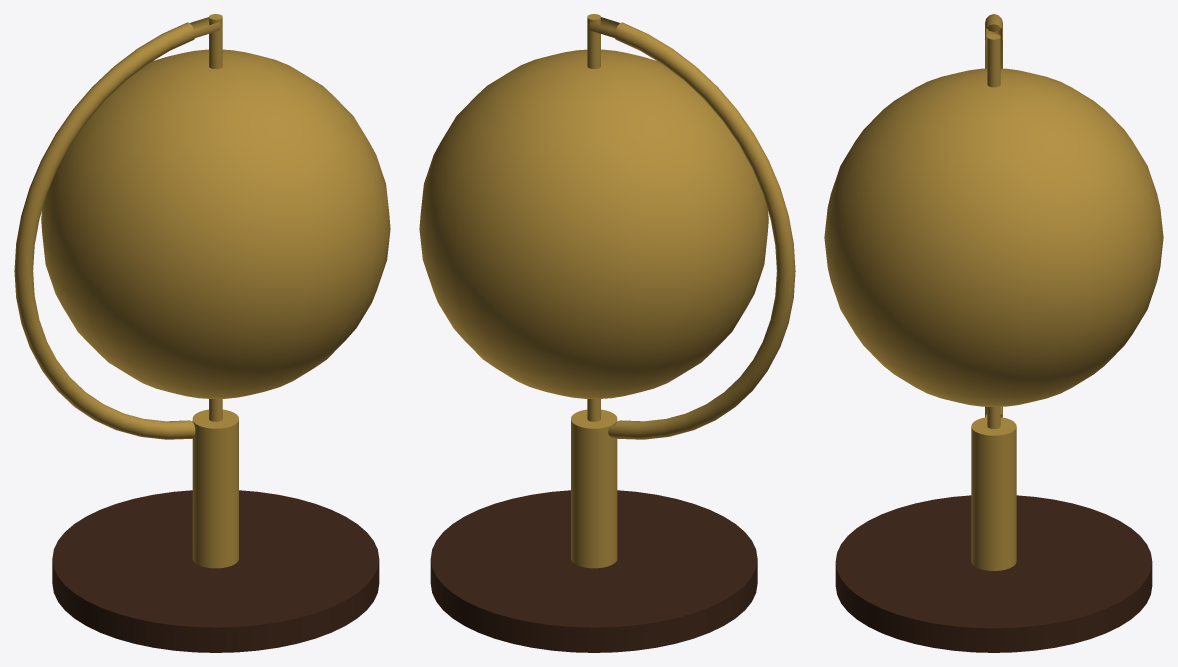
The model's file is Globe.fbx.
3 views of the same model, side by side, from view 1: azimuth 30°, elevation 25°; view 2: azimuth 150°, elevation 25°; view 3: azimuth 270°, elevation 25° (orthographic). The views are drawn at different scales.
Visible parts, largest first — view 1: Globe.002; view 2: Globe.002; view 3: Globe.002.
Part boxes in pixels (x1,y1,x2,y2): Globe.002: (14, 14, 390, 652); Globe.002: (419, 14, 795, 652); Globe.002: (824, 14, 1163, 652).
Size of the model in its own units: 17.4 by 26.82 by 15.
